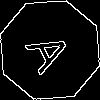A: (25, 25, 82, 76)
